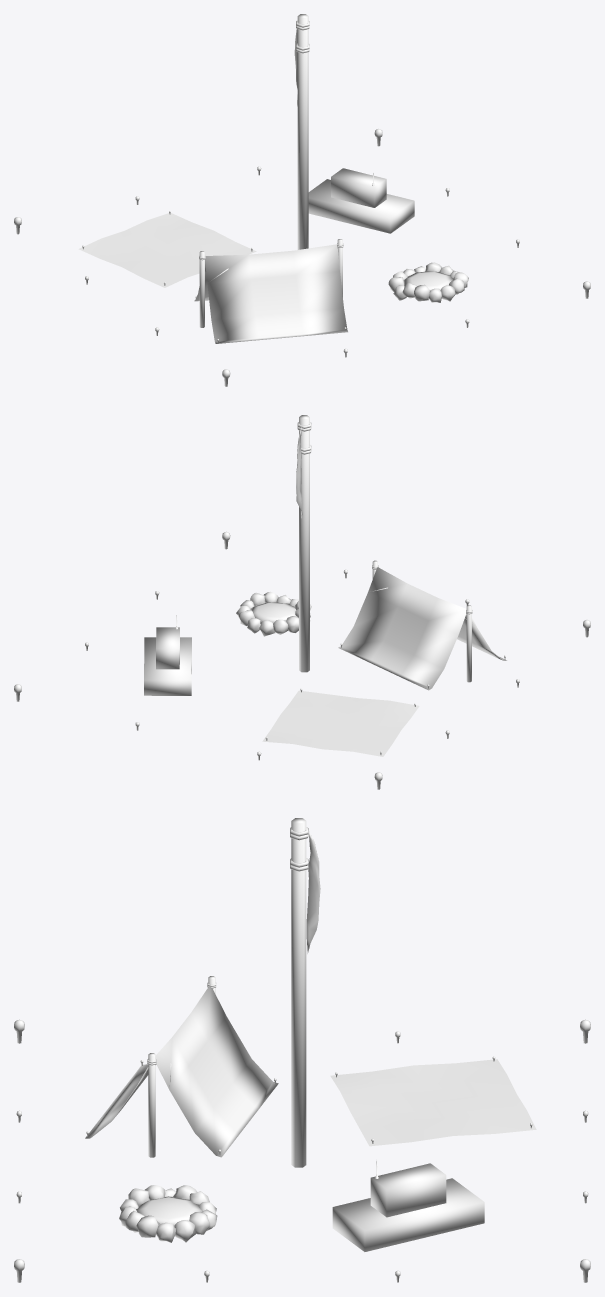
File: basecamp.fbx
3 renders of one model, top to bottom at view 1: azimuth 30°, elevation 25°; view 2: azimuth 150°, elevation 25°; view 3: azimuth 270°, elevation 25°, orthographic. The views are drawn at different scales.
Parts seen in each view (by area): view 1: Sphere; view 2: Sphere; view 3: Sphere.
Boxes of the visible parts, bbox=[...] form: Sphere: bbox=[14, 14, 590, 386]; Sphere: bbox=[14, 415, 590, 789]; Sphere: bbox=[14, 818, 590, 1282].
Bounding box in the file's own units: 17.89 × 12.07 × 17.84.
